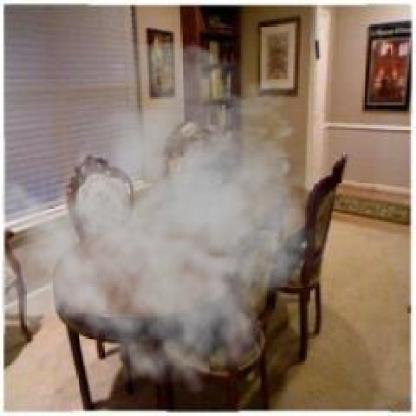Smoke: (1, 41, 340, 396)
